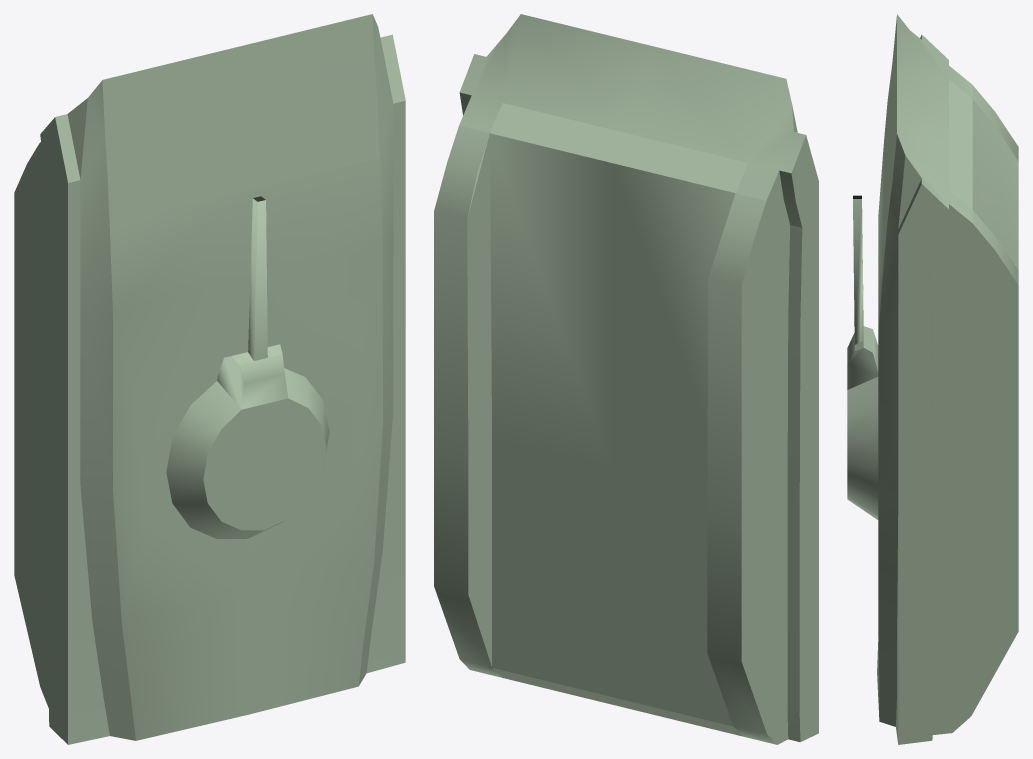
Rendered from bmp1.glb.
The picture shows the model from 3 angles, left to right: view 1: azimuth 30°, elevation 25°; view 2: azimuth 150°, elevation 25°; view 3: azimuth 270°, elevation 25°; orthographic projection. The views are drawn at different scales.
Visible parts, largest first — view 1: db_bmp1_p13741_Geometry_0.001; view 2: db_bmp1_p13741_Geometry_0.001; view 3: db_bmp1_p13741_Geometry_0.001.
Boxes of the visible parts, x1,y1,x2,y2 form: db_bmp1_p13741_Geometry_0.001: [14, 14, 405, 744]; db_bmp1_p13741_Geometry_0.001: [434, 14, 818, 744]; db_bmp1_p13741_Geometry_0.001: [847, 14, 1018, 744].
Size of the model in its own units: 3.62 by 6.75 by 1.75.
